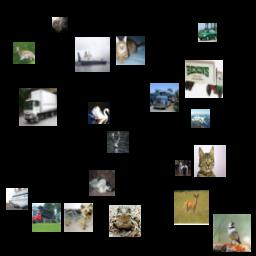airplane: (191, 109, 210, 128)
automobile: (198, 23, 217, 42)
bird: (213, 214, 251, 252), (107, 131, 129, 153), (88, 102, 110, 124)
cat: (194, 145, 226, 177), (116, 36, 145, 65)
deer: (174, 190, 209, 225), (13, 42, 35, 64)
dog: (64, 203, 93, 232), (89, 170, 115, 196), (52, 17, 68, 33)
frog: (109, 205, 141, 237)
ship: (75, 37, 110, 72), (6, 188, 28, 210)
truck: (19, 88, 57, 126), (185, 60, 223, 98), (150, 83, 179, 112), (32, 203, 61, 232)
